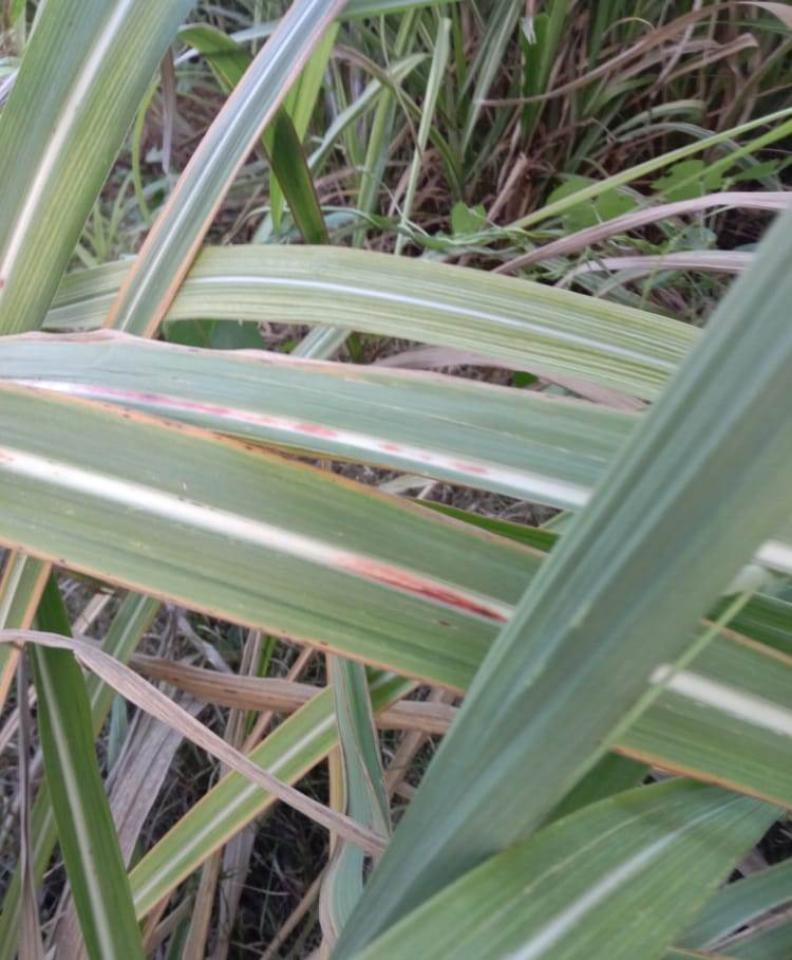RedRot: (80, 384, 491, 475), (332, 556, 508, 625)
Rust: (178, 495, 216, 513)
Yellow: (0, 381, 550, 557), (0, 538, 466, 697)
